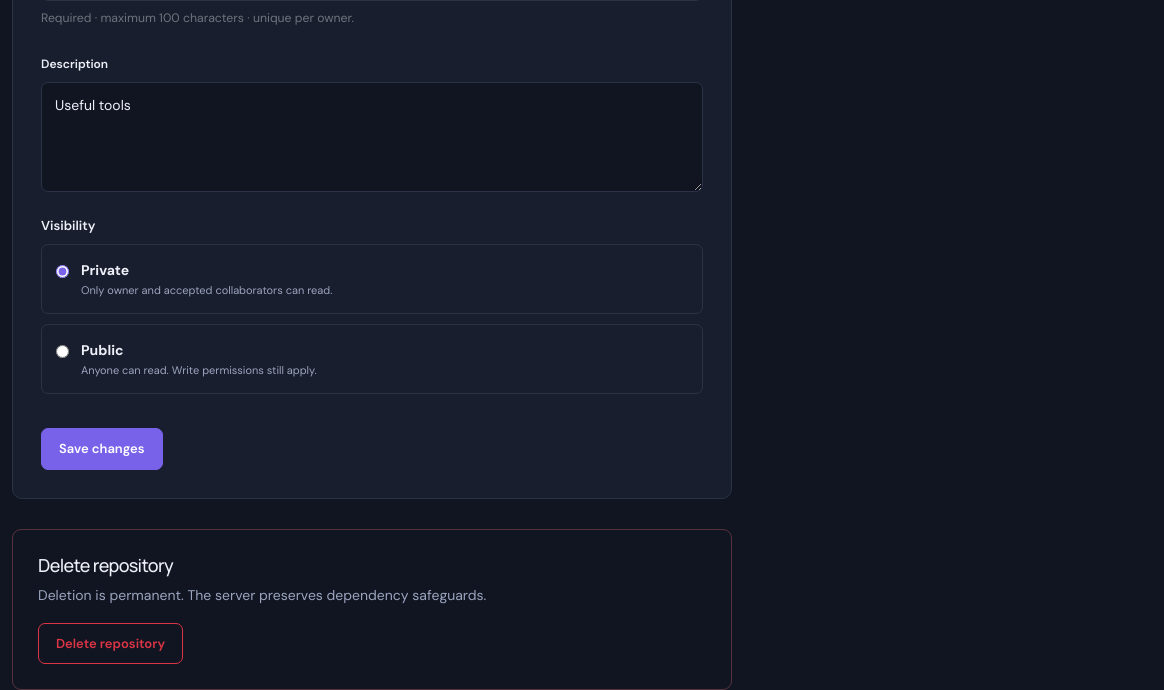
Scenario: repository mutations › replaces creation notice with save confirmation after editing
(page scrolled)
Expected: the text box labelled "Description" is shown, [41,82,703,192]
Click the button "Save changes". click: (102, 449)
box: [41,428,162,470]
(page scrolled)
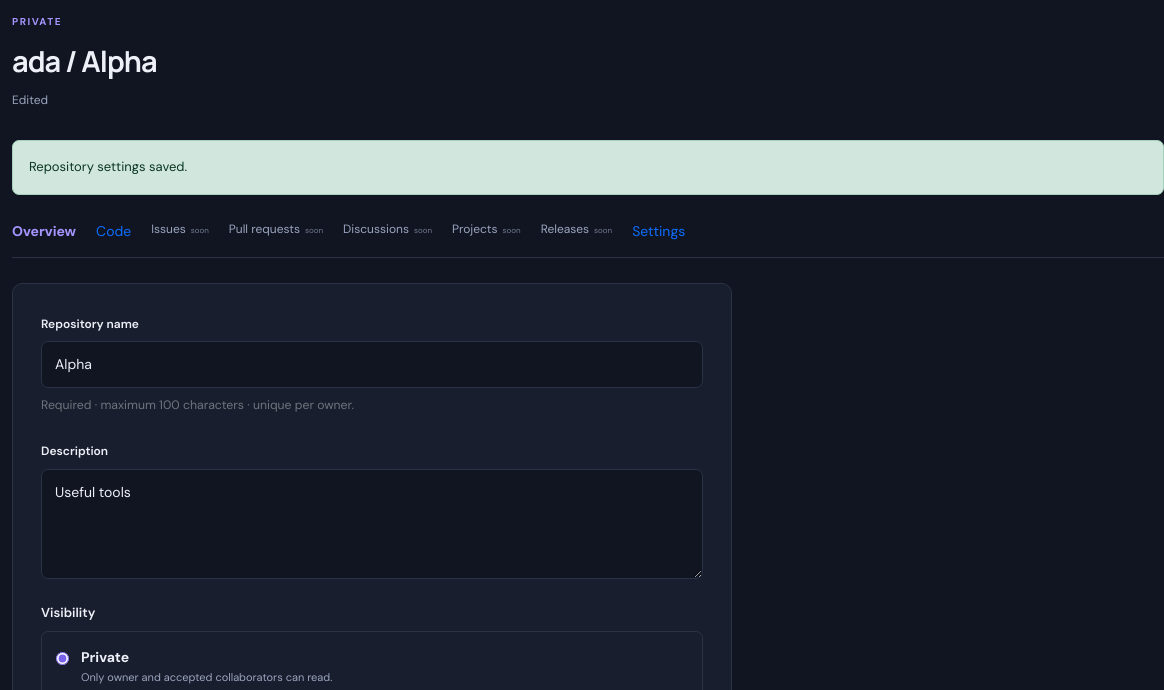
Expected: the text "Repository settings saved." is shown, [12,140,1163,195]
